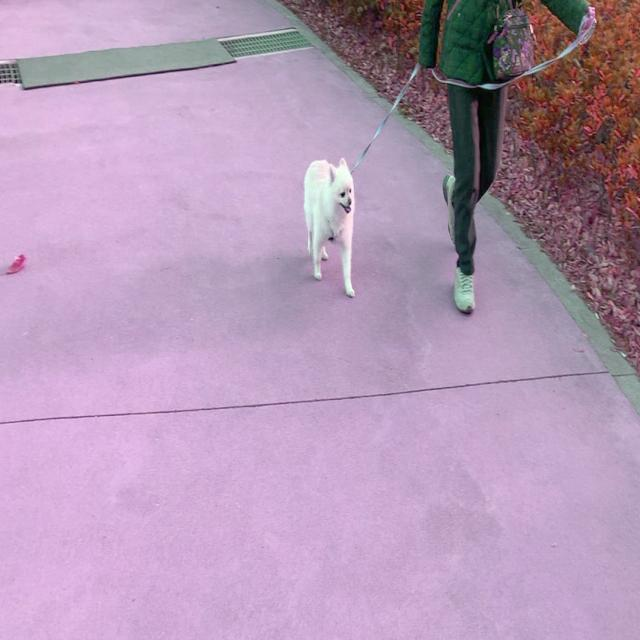Leashed_Dog: (303, 6, 484, 299)
